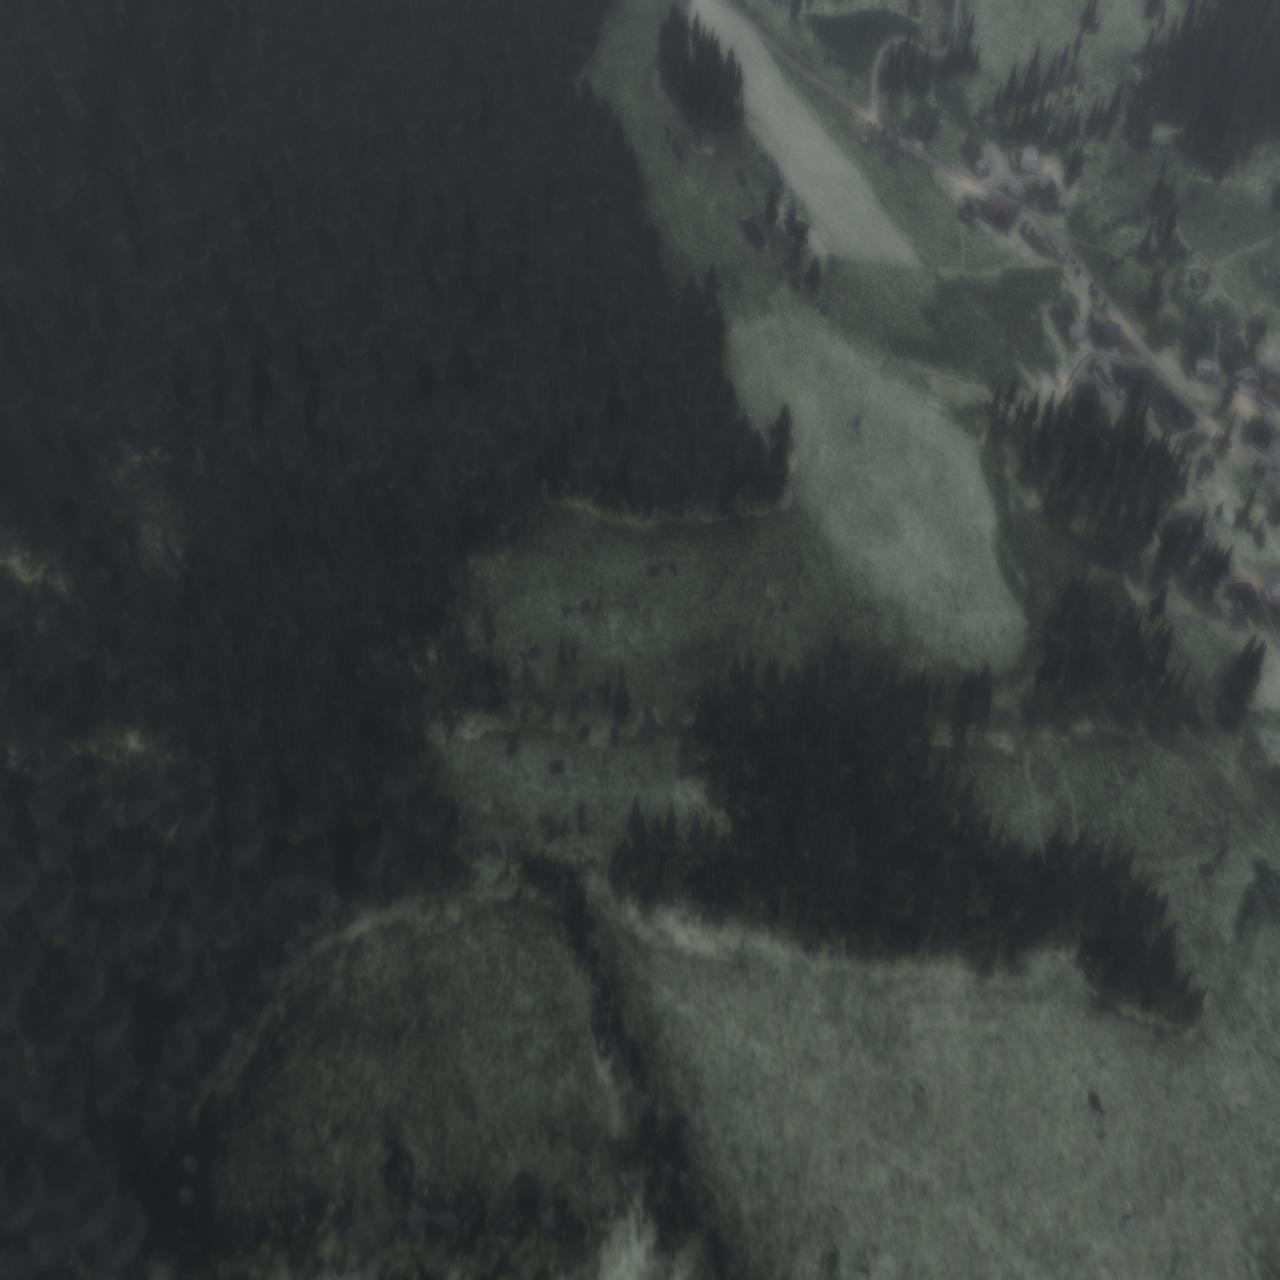MIL_Veh: (549, 758, 570, 775), (576, 721, 592, 741), (542, 824, 557, 844), (576, 798, 587, 823), (505, 738, 520, 757), (568, 645, 579, 669), (529, 641, 540, 662), (610, 727, 619, 749), (544, 700, 553, 720), (519, 707, 527, 724)
